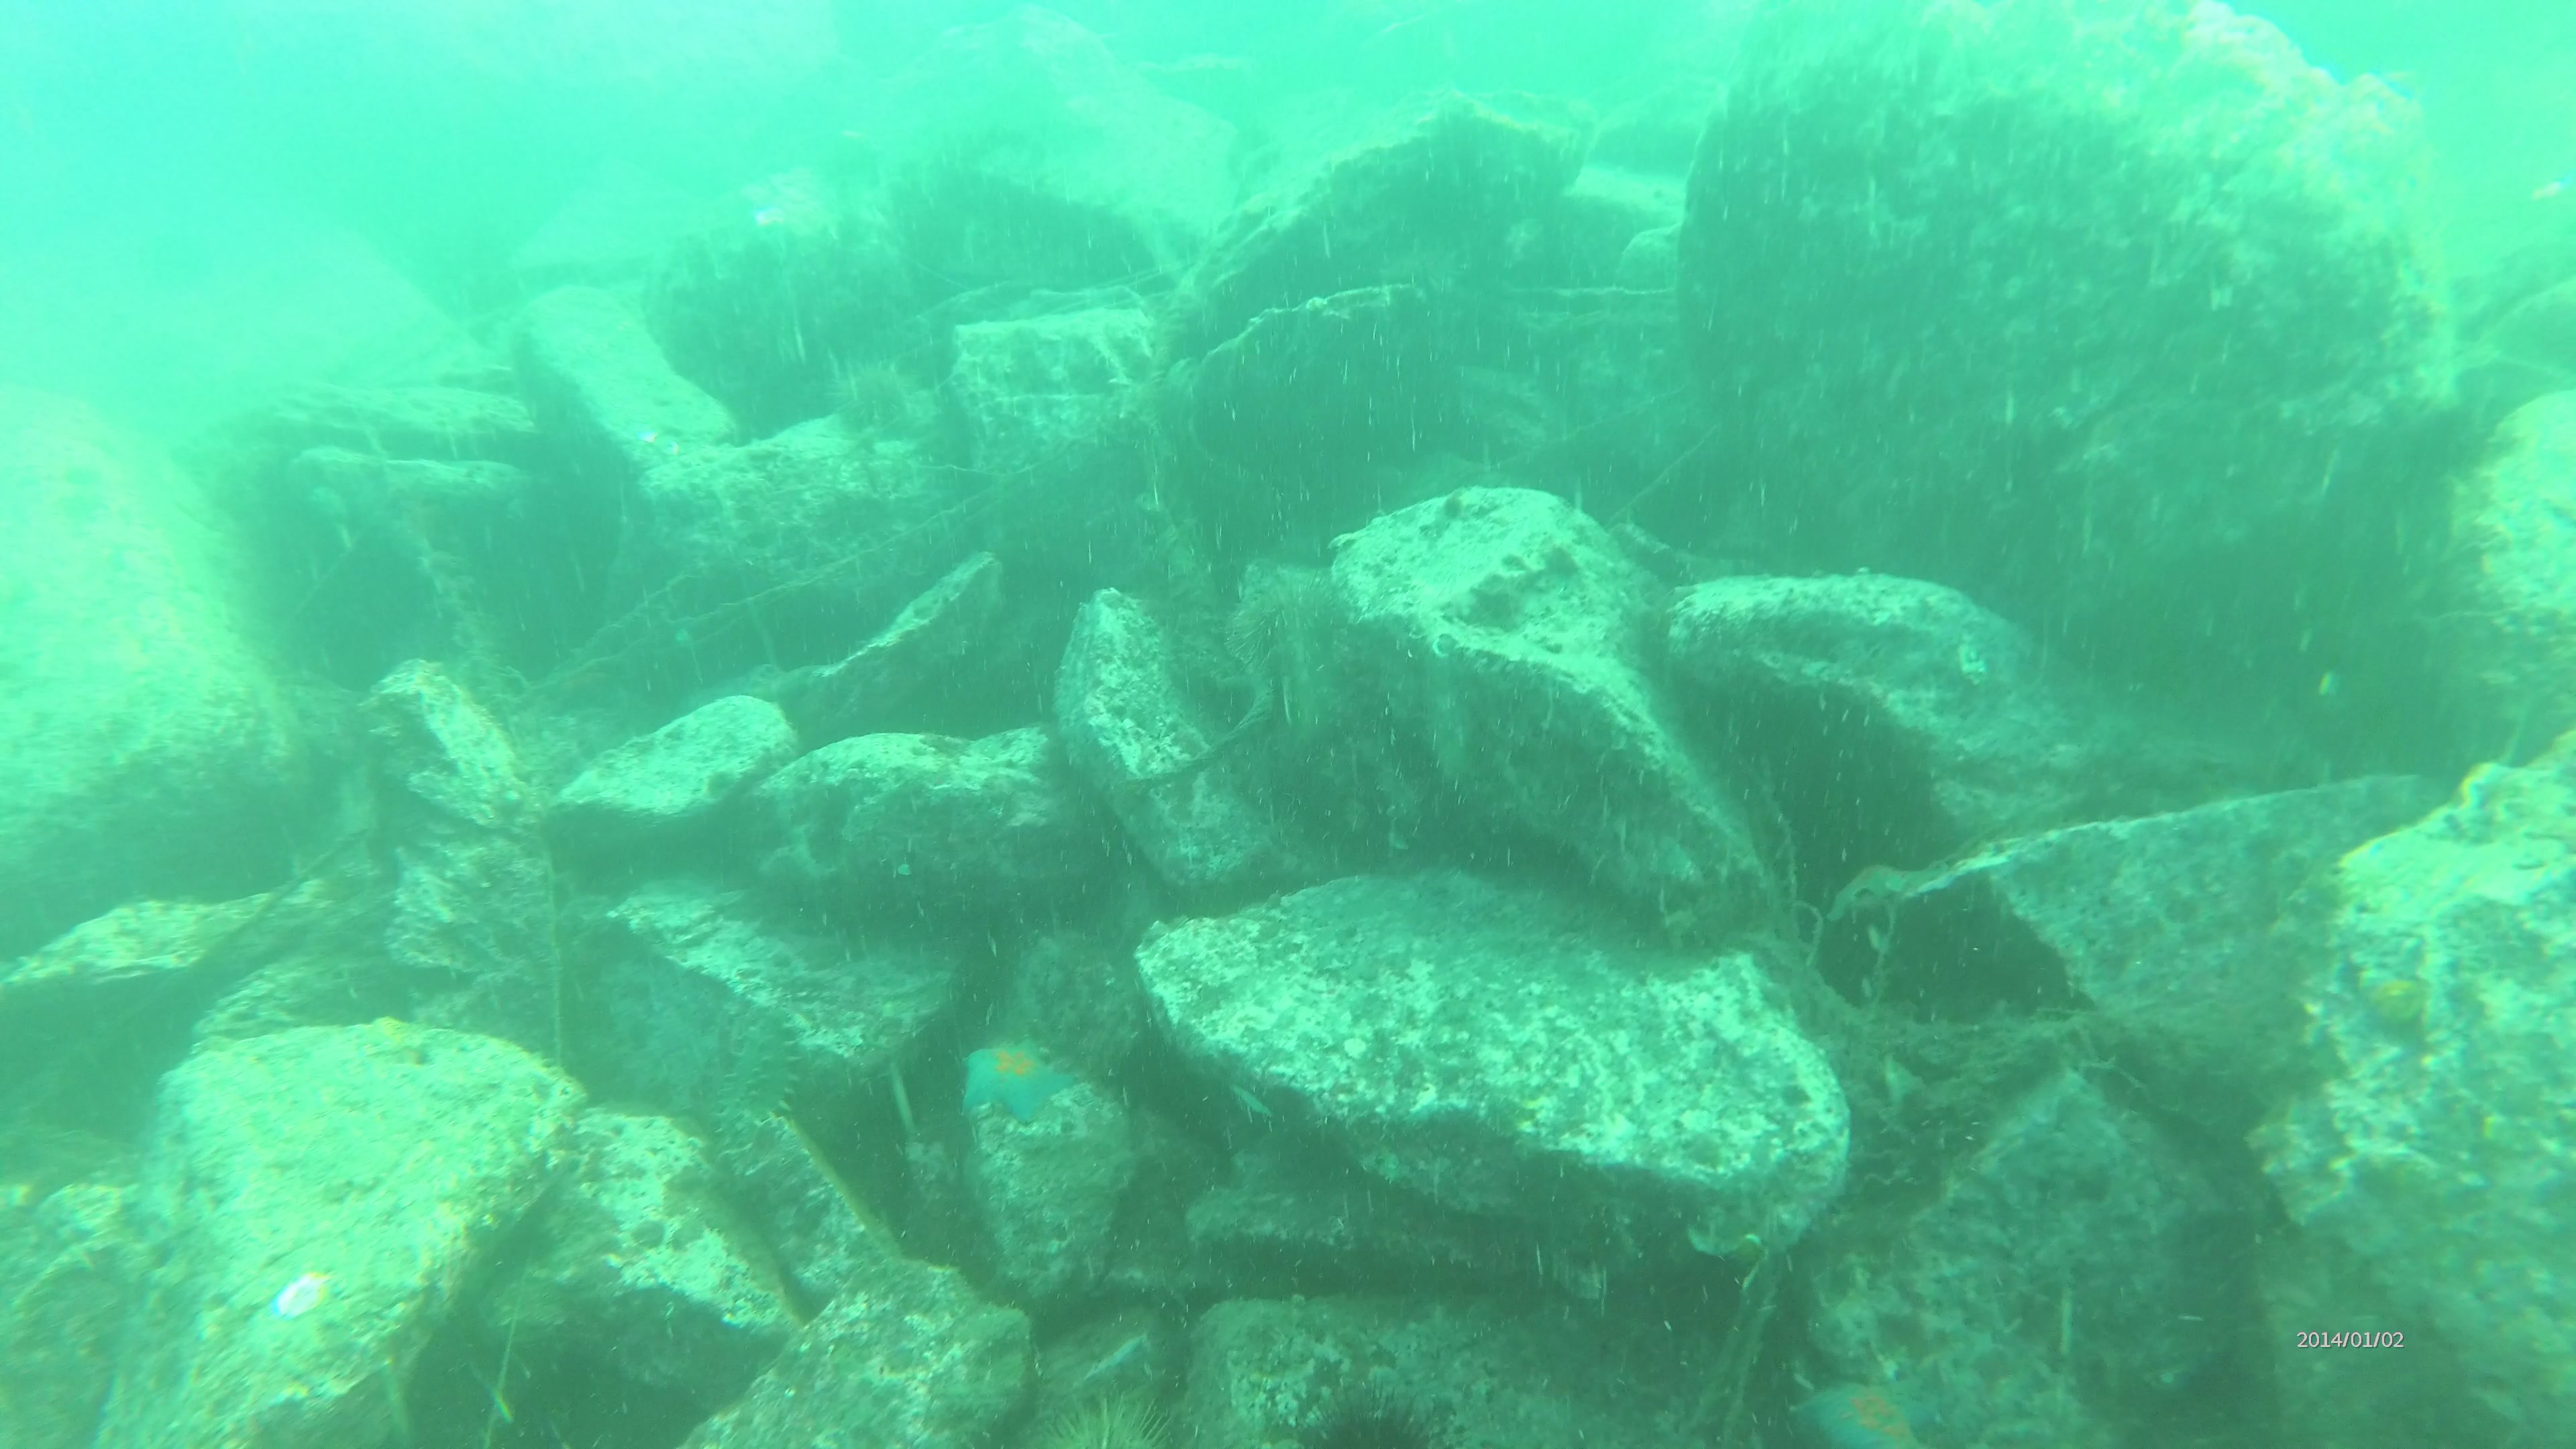echinus: (1249, 1375, 1497, 1449), (1033, 1380, 1210, 1449)
holothurian: (697, 989, 798, 1175)
starfish: (1782, 1361, 1957, 1449), (957, 1030, 1093, 1138)
